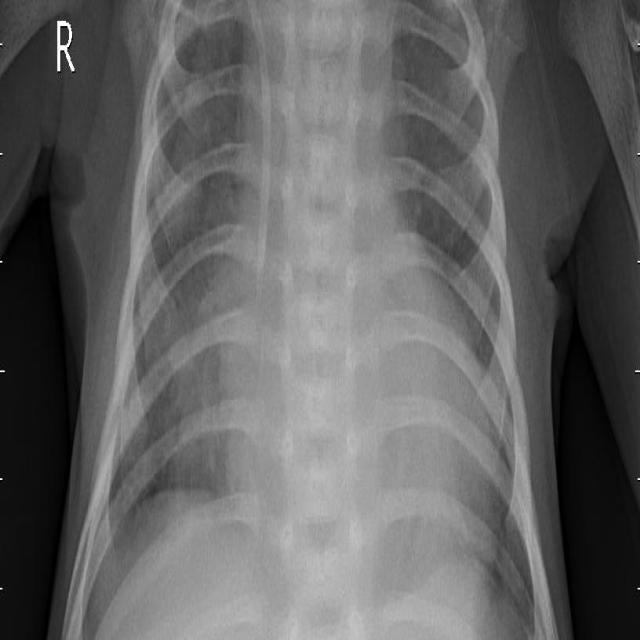low-pneumonia: (162, 250, 235, 486)
